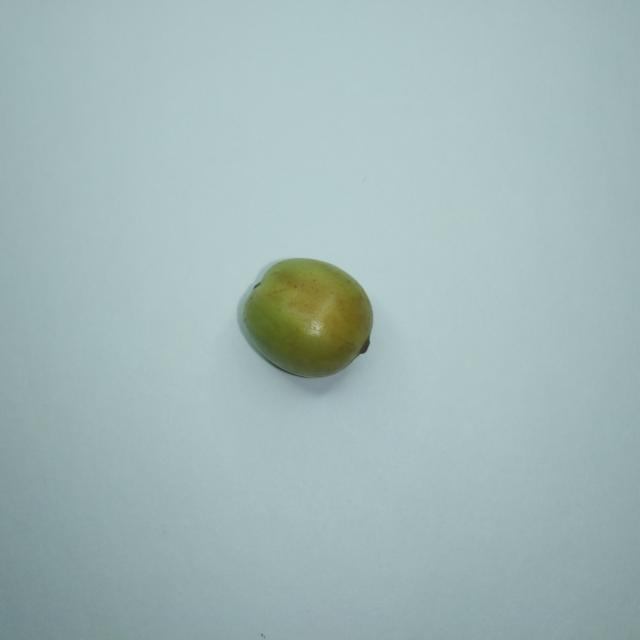Sano: (239, 258, 372, 377)
